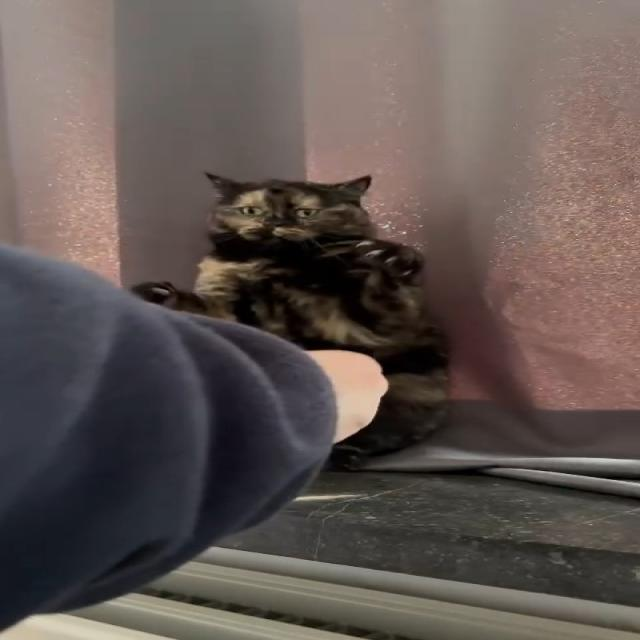authorized: (130, 170, 453, 469)
